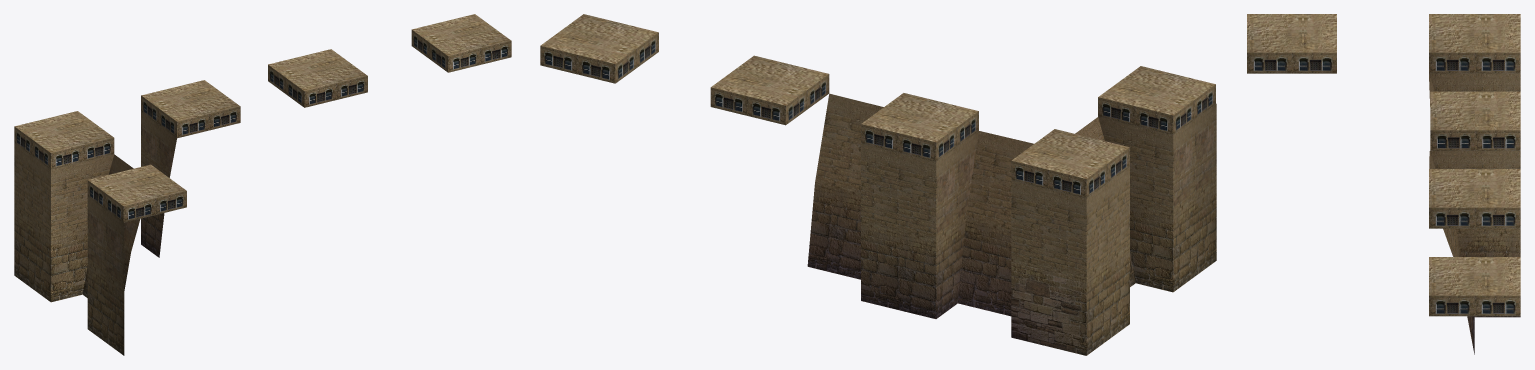
The model's file is M7Z4_FortWall4_B.glb.
The picture shows the model from 3 angles, left to right: view 1: azimuth 30°, elevation 25°; view 2: azimuth 150°, elevation 25°; view 3: azimuth 270°, elevation 25°; orthographic projection. The views are drawn at different scales.
Parts seen in each view (by area): view 1: M7Z4_FORTWALL4_B; view 2: M7Z4_FORTWALL4_B; view 3: M7Z4_FORTWALL4_B.
Part boxes in pixels (bbox=[...]): M7Z4_FORTWALL4_B: bbox=[14, 14, 511, 355]; M7Z4_FORTWALL4_B: bbox=[540, 14, 1216, 355]; M7Z4_FORTWALL4_B: bbox=[1247, 14, 1520, 354].
Bounding box in the file's own units: 29.07 × 9 × 12.
6 materials, 6 textured.
